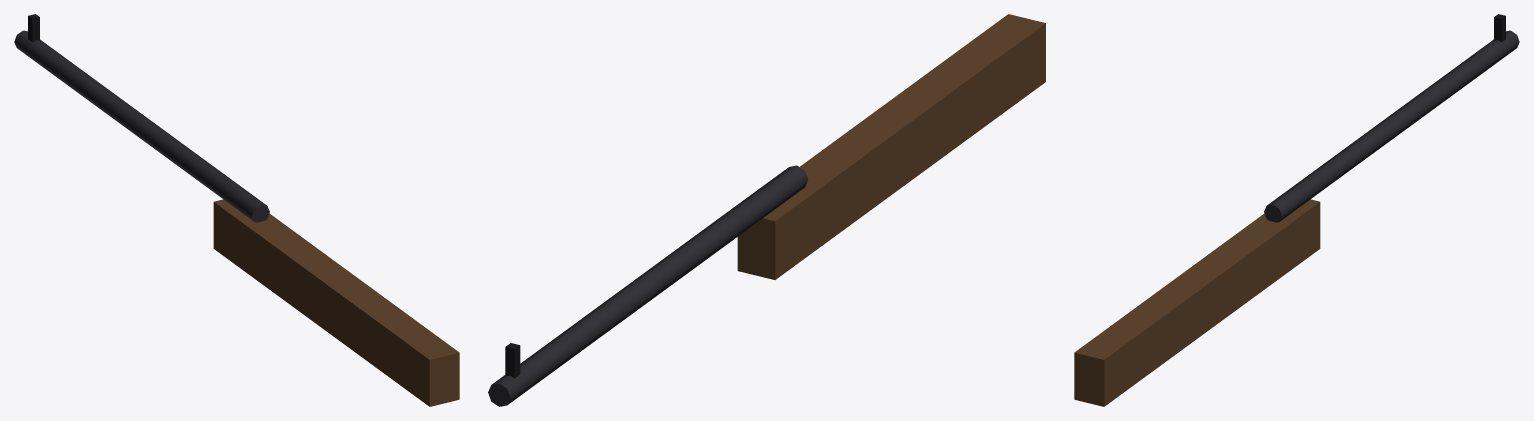
The model's file is hold-tir.glb.
3 renders of one model, left to right at view 1: azimuth 30°, elevation 25°; view 2: azimuth 150°, elevation 25°; view 3: azimuth 330°, elevation 25°, orthographic. The views are drawn at different scales.
Visible parts, largest first — view 1: 00_#5a3e26_noshadow_r110, 01_#2a2a30_noshadow_r110; view 2: 00_#5a3e26_noshadow_r110, 01_#2a2a30_noshadow_r110, 02_#16161a_noshadow_r110; view 3: 00_#5a3e26_noshadow_r110, 01_#2a2a30_noshadow_r110.
Part boxes in pixels (bbox=[...]): 00_#5a3e26_noshadow_r110: bbox=[213, 199, 459, 406]; 01_#2a2a30_noshadow_r110: bbox=[14, 30, 269, 222]; 00_#5a3e26_noshadow_r110: bbox=[737, 14, 1045, 279]; 01_#2a2a30_noshadow_r110: bbox=[488, 165, 808, 406]; 02_#16161a_noshadow_r110: bbox=[505, 343, 520, 378]; 00_#5a3e26_noshadow_r110: bbox=[1074, 199, 1320, 406]; 01_#2a2a30_noshadow_r110: bbox=[1264, 30, 1519, 222].
Bounding box in the file's own units: 0.04 × 0.11 × 0.975.
